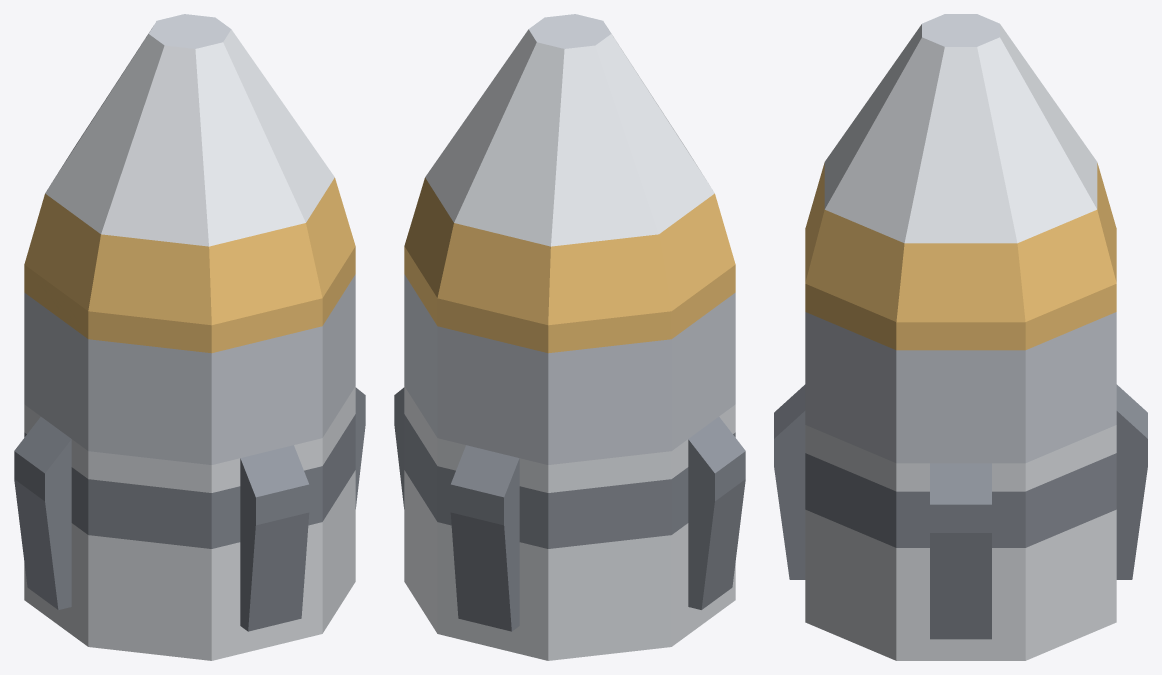
File: ascent-rocket.glb
3 views of the same model, side by side, from view 1: azimuth 30°, elevation 25°; view 2: azimuth 150°, elevation 25°; view 3: azimuth 270°, elevation 25° (orthographic).
Parts seen in each view (by area): view 1: rocket_topA, rocket_finsA, rocket_fuelA; view 2: rocket_topA, rocket_finsA, rocket_fuelA; view 3: rocket_finsA, rocket_topA, rocket_fuelA.
Boxes of the visible parts, left/top/right/bottom form: rocket_topA: left=24, top=14, right=355, bottom=325; rocket_finsA: left=14, top=386, right=365, bottom=660; rocket_fuelA: left=24, top=246, right=355, bottom=464; rocket_topA: left=404, top=14, right=735, bottom=325; rocket_finsA: left=394, top=386, right=745, bottom=660; rocket_fuelA: left=404, top=246, right=735, bottom=464; rocket_finsA: left=774, top=384, right=1147, bottom=660; rocket_topA: left=805, top=14, right=1116, bottom=322; rocket_fuelA: left=805, top=284, right=1116, bottom=463.
Bounding box in the file's own units: 1.2 × 2 × 1.2.
